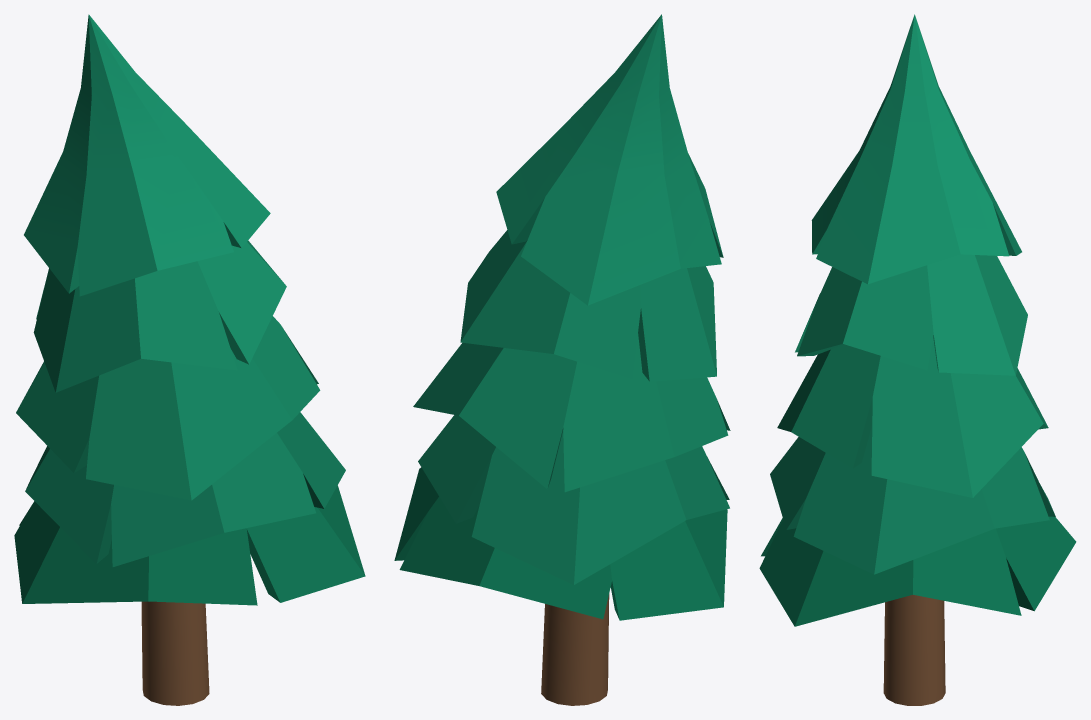
Rendered from Spruce_Turquoise_2.fbx.
3 renders of one model, left to right at view 1: azimuth 30°, elevation 25°; view 2: azimuth 150°, elevation 25°; view 3: azimuth 270°, elevation 25°, orthographic. The views are drawn at different scales.
Parts seen in each view (by area): view 1: Cylinder.1058, Cylinder.1059, Cylinder.1060, Cylinder.1062, Cylinder.1061, Cylinder.1063; view 2: Cylinder.1058, Cylinder.1059, Cylinder.1061, Cylinder.1060, Cylinder.1062, Cylinder.1063; view 3: Cylinder.1058, Cylinder.1059, Cylinder.1061, Cylinder.1060, Cylinder.1062, Cylinder.1063.
Boxes of the visible parts, bbox=[...] form: Cylinder.1058: bbox=[24, 14, 270, 296]; Cylinder.1059: bbox=[16, 316, 320, 500]; Cylinder.1060: bbox=[33, 240, 286, 392]; Cylinder.1062: bbox=[14, 485, 365, 605]; Cylinder.1061: bbox=[25, 412, 345, 566]; Cylinder.1063: bbox=[141, 601, 209, 705]; Cylinder.1058: bbox=[496, 14, 723, 305]; Cylinder.1059: bbox=[413, 334, 730, 492]; Cylinder.1061: bbox=[418, 415, 729, 584]; Cylinder.1060: bbox=[460, 230, 716, 381]; Cylinder.1062: bbox=[394, 467, 727, 620]; Cylinder.1063: bbox=[541, 594, 609, 705]; Cylinder.1058: bbox=[811, 14, 1021, 284]; Cylinder.1059: bbox=[777, 337, 1048, 497]; Cylinder.1061: bbox=[770, 425, 1055, 574]; Cylinder.1060: bbox=[795, 254, 1027, 375]; Cylinder.1062: bbox=[759, 516, 1076, 626]; Cylinder.1063: bbox=[883, 595, 945, 705].
Size of the model in its own units: 262 by 568 by 255.
